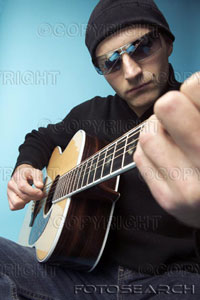guitar: (17, 121, 170, 275)
